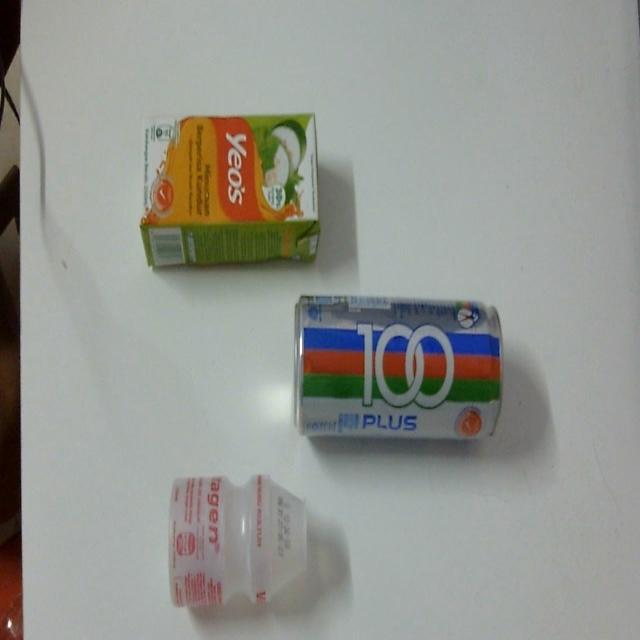metal_laydown_0rotation: (289, 282, 512, 460)
plastic_laydown_0rotation: (134, 105, 326, 268), (165, 468, 318, 618)
